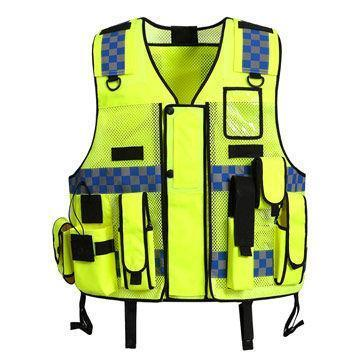vest: (50, 16, 309, 304)
